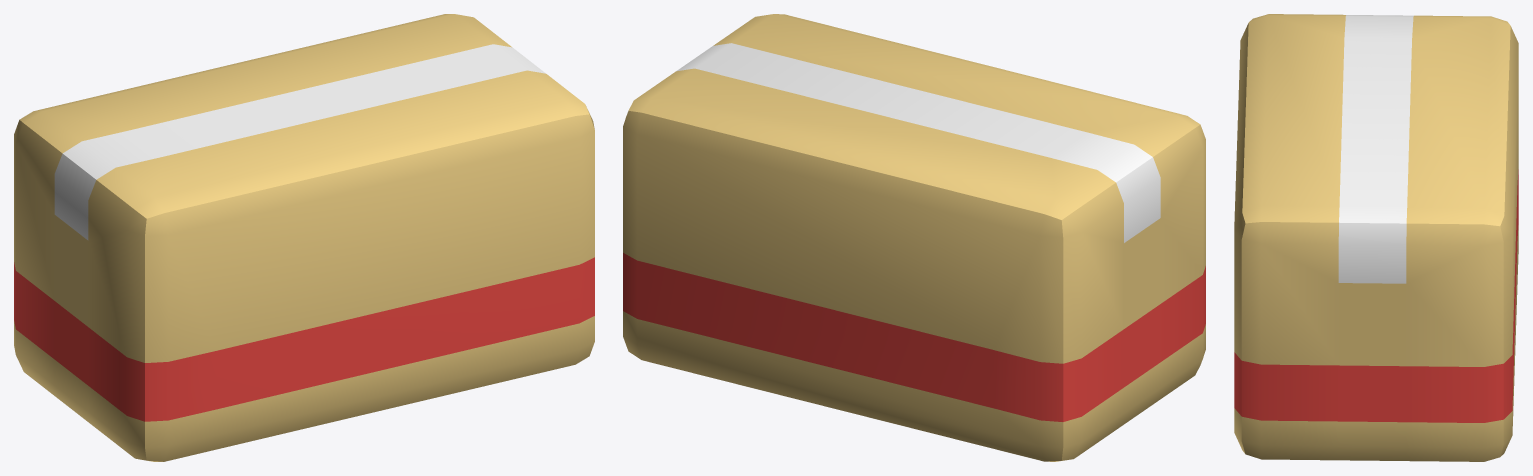
File: Props_Box_Red_02.fbx
The picture shows the model from 3 angles, left to right: view 1: azimuth 30°, elevation 25°; view 2: azimuth 150°, elevation 25°; view 3: azimuth 270°, elevation 25°; orthographic projection. The views are drawn at different scales.
Visible parts, largest first — view 1: Props_Box_Red_02; view 2: Props_Box_Red_02; view 3: Props_Box_Red_02.
Boxes of the visible parts, x1=… form: Props_Box_Red_02: x1=14, y1=14, x2=594, y2=461; Props_Box_Red_02: x1=623, y1=14, x2=1205, y2=461; Props_Box_Red_02: x1=1234, y1=14, x2=1518, y2=461.
Bounding box in the file's own units: 96.84 × 52.32 × 53.48.
